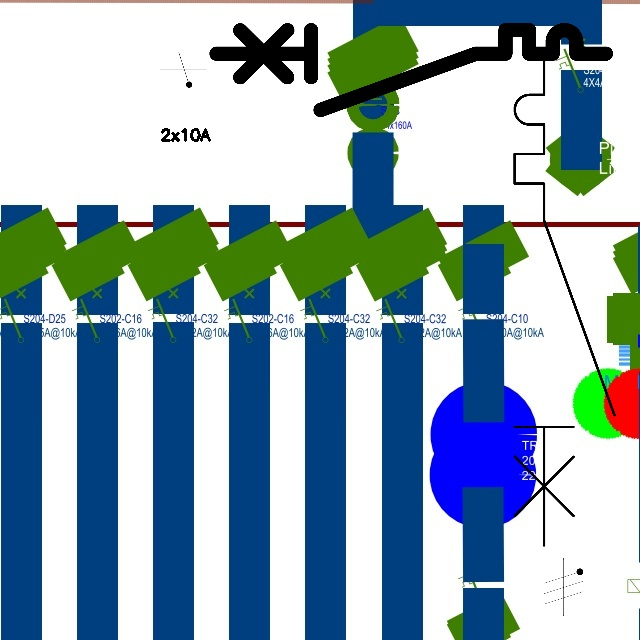interruptor_termomagnetico: (502, 45, 627, 557), (206, 20, 616, 120)
